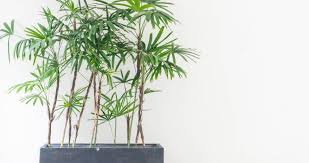bamboo: (1, 1, 232, 141)
